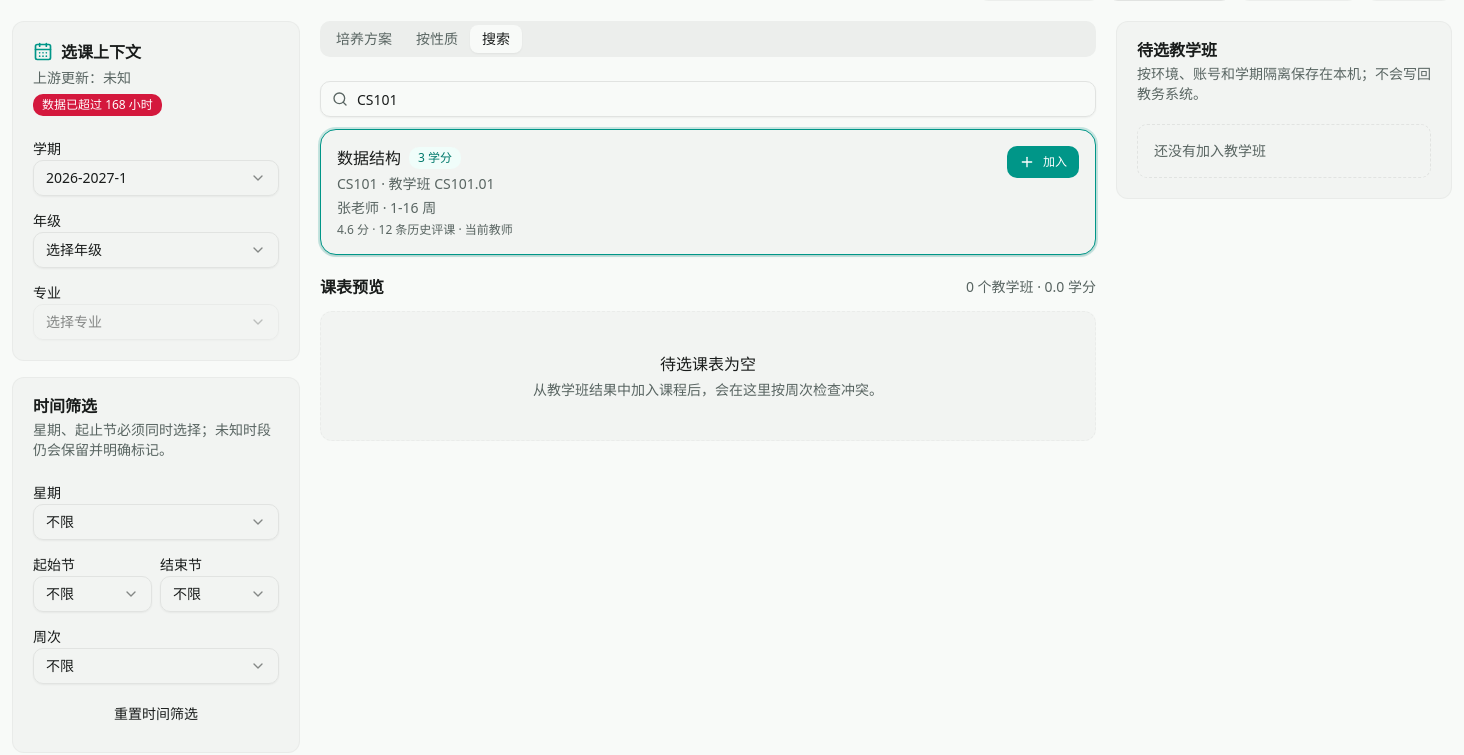
it: SchedulePage › does not silently ignore a week without a complete time range
The image size is (1464, 755).
Check: the button with aria-label "加入数据结构教学班CS101.01" is shown, box [1007,146,1079,178]
What coordinates should you click on to do the following:
click the dropdown named "周次"
I would click on:
 (156, 666)
Its box is [33,648,279,684].
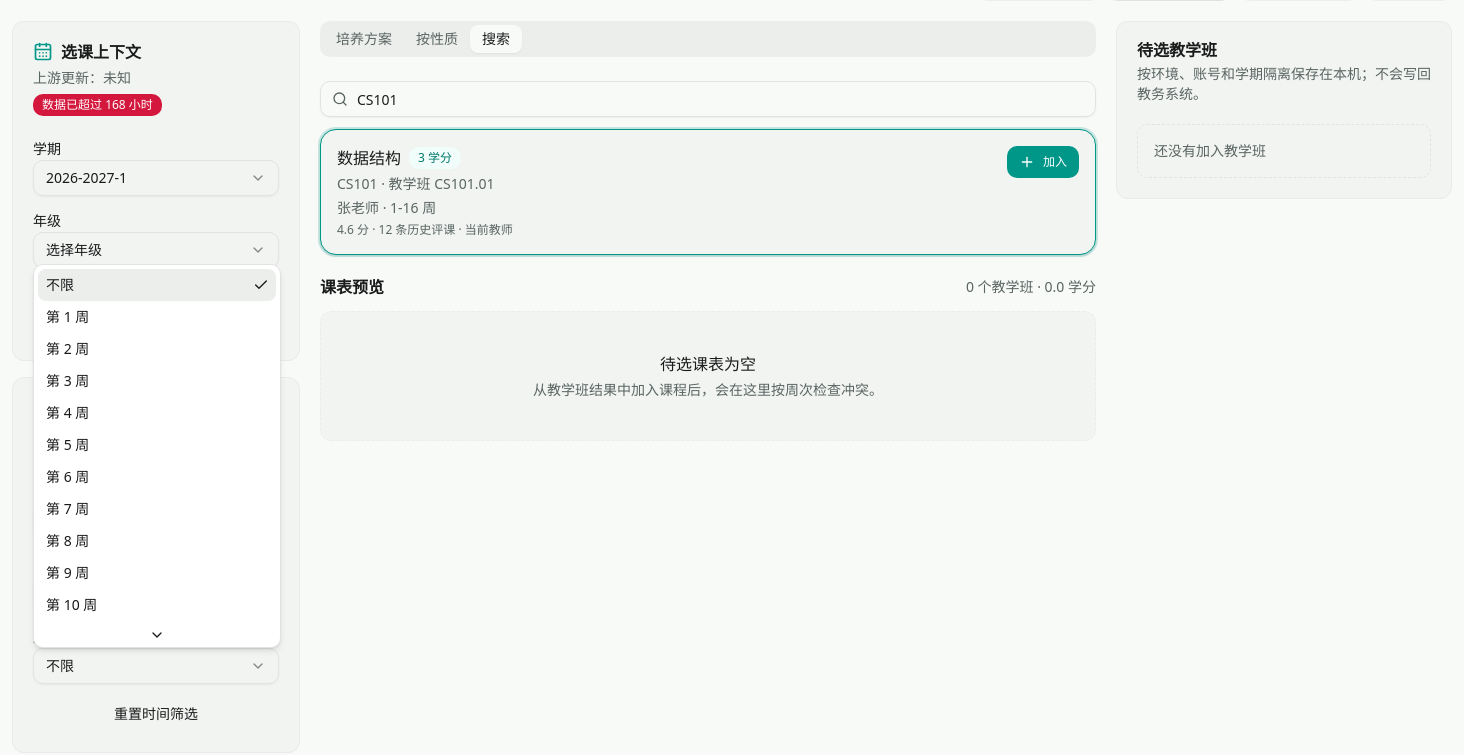
What coordinates should you click on to do the following:
click the option "第 3 周"
I would click on:
 (68, 380)
Its box is [46,371,89,390].
(page scrolled)
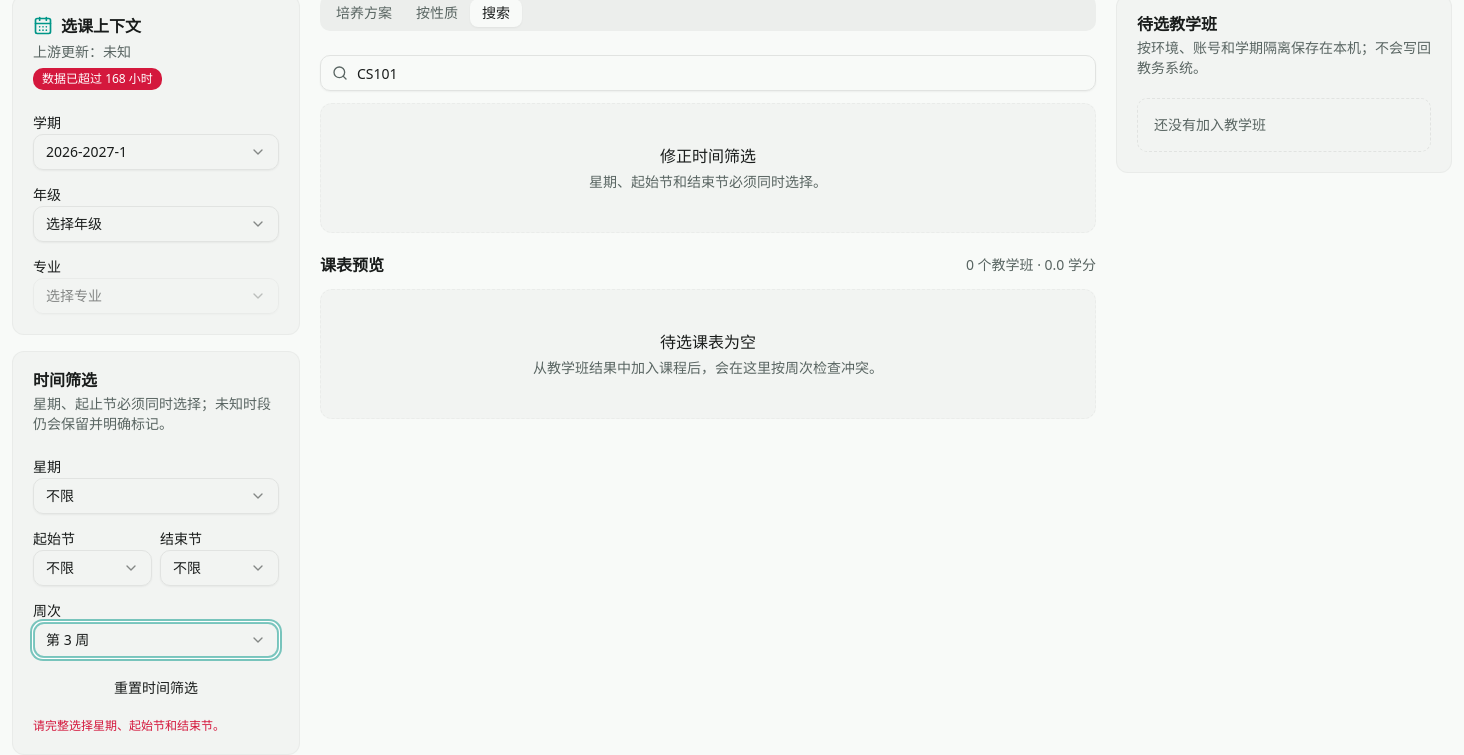
Check: the text "请完整选择星期、起始节和结束节。" is shown, box [33,717,225,734]
